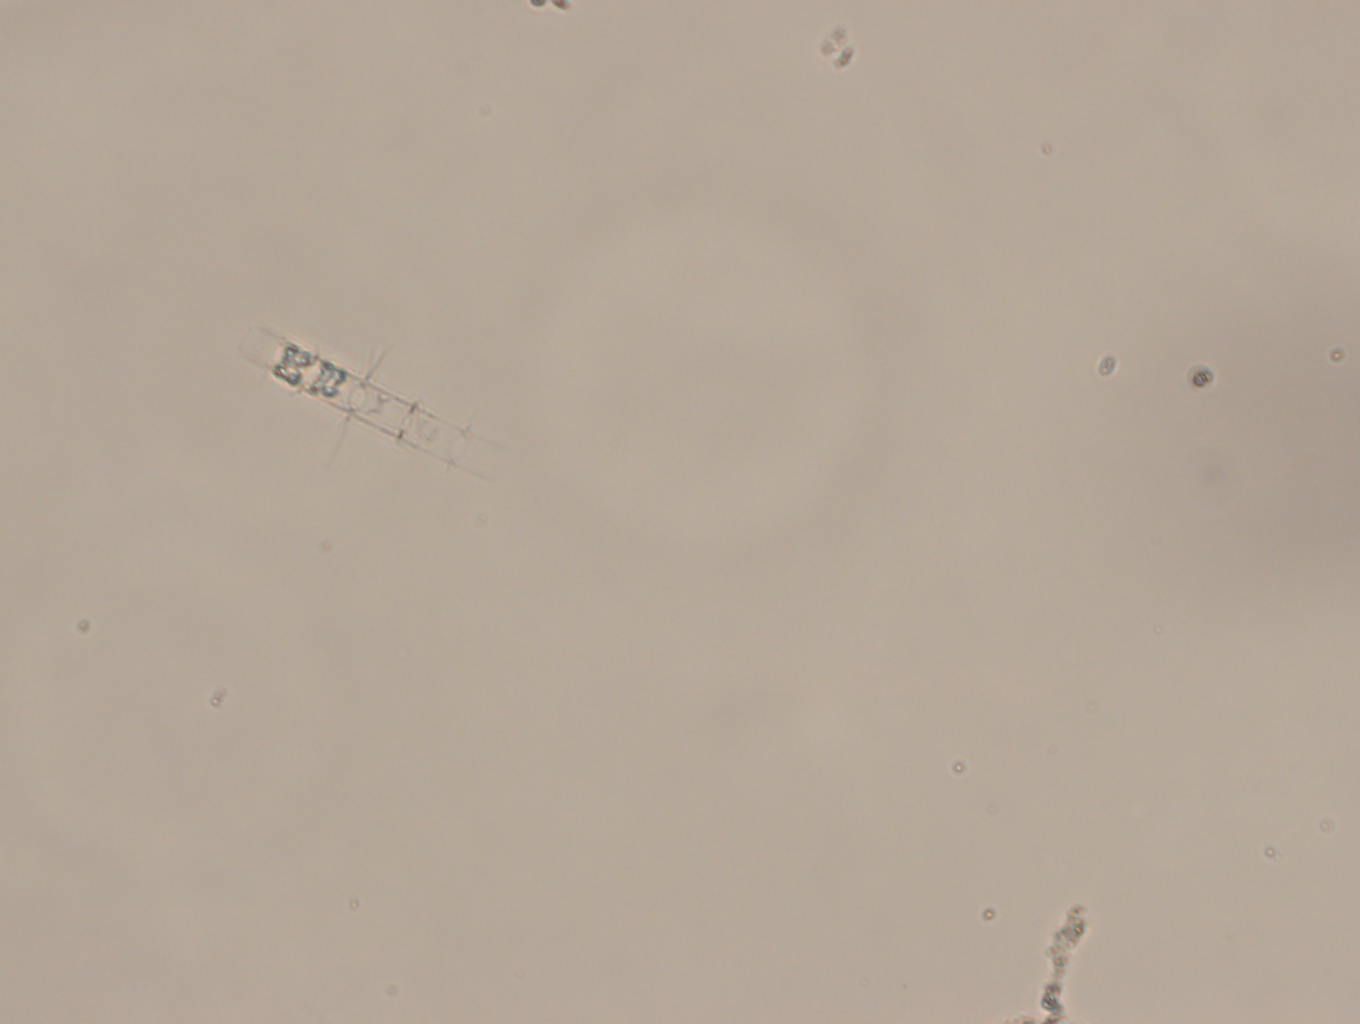chaetoceros: (234, 325, 503, 485)
